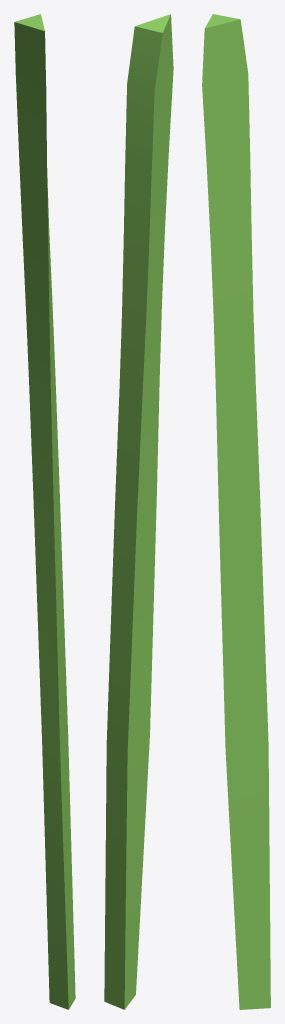
Rendered from lianas_K.fbx.
The picture shows the model from 3 angles, left to right: view 1: azimuth 30°, elevation 25°; view 2: azimuth 150°, elevation 25°; view 3: azimuth 330°, elevation 25°; orthographic projection.
Parts seen in each view (by area): view 1: liana_K_thick, liana_K; view 2: liana_K_thick; view 3: liana_K, liana_K_thick.
Part boxes in pixels (x1=…): liana_K_thick: x1=14, y1=14, x2=68, y2=1009; liana_K: x1=47, y1=168, x2=75, y2=1009; liana_K_thick: x1=104, y1=14, x2=173, y2=1009; liana_K: x1=202, y1=19, x2=270, y2=1009; liana_K_thick: x1=205, y1=14, x2=239, y2=28.
Bounding box in the file's own units: 4.07 × 64.36 × 2.98.
